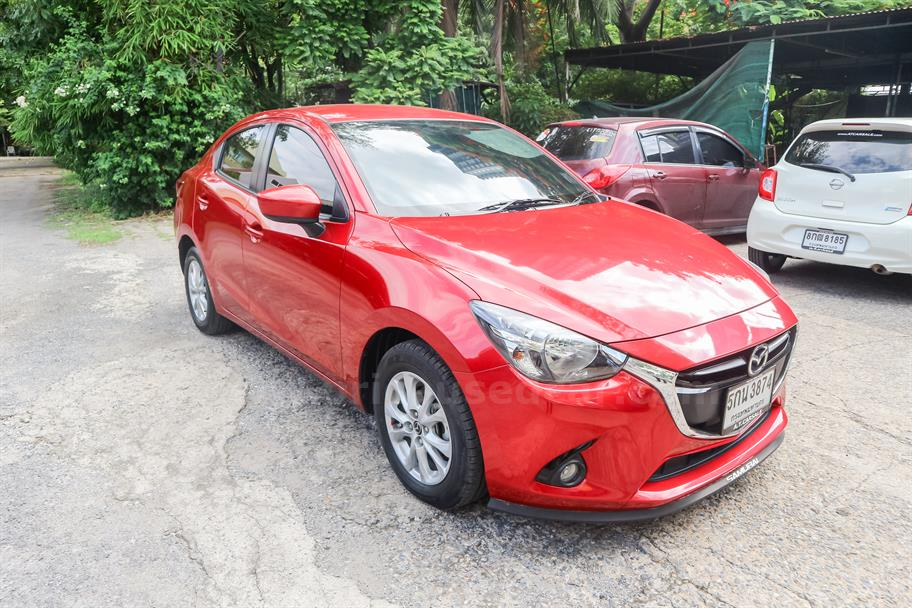sedan: (171, 102, 800, 522)
